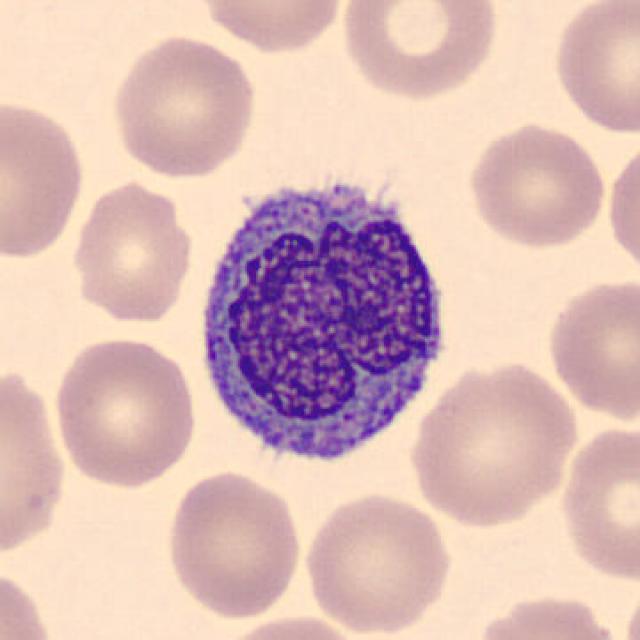Monocyte: (186, 159, 461, 476)
RBC: (406, 356, 582, 531), (48, 331, 201, 492), (299, 488, 457, 636), (106, 30, 260, 180), (162, 466, 306, 622), (462, 118, 610, 252), (68, 175, 198, 326), (336, 0, 503, 102), (0, 93, 89, 264), (540, 273, 640, 425), (0, 359, 69, 562), (555, 421, 638, 587), (548, 0, 638, 138), (192, 0, 350, 55), (470, 589, 628, 640), (604, 136, 640, 284), (0, 562, 59, 640), (208, 612, 370, 640), (620, 571, 640, 640)
